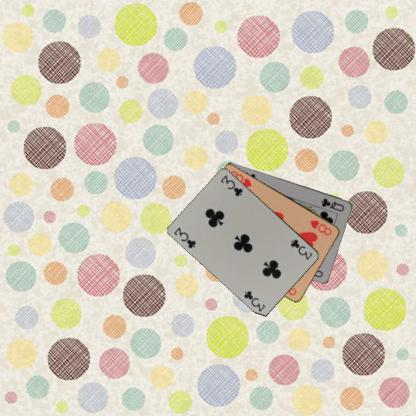3c: (288, 236, 314, 261), (172, 224, 198, 249)
8h: (307, 217, 333, 237)
Qc: (319, 195, 345, 213)
